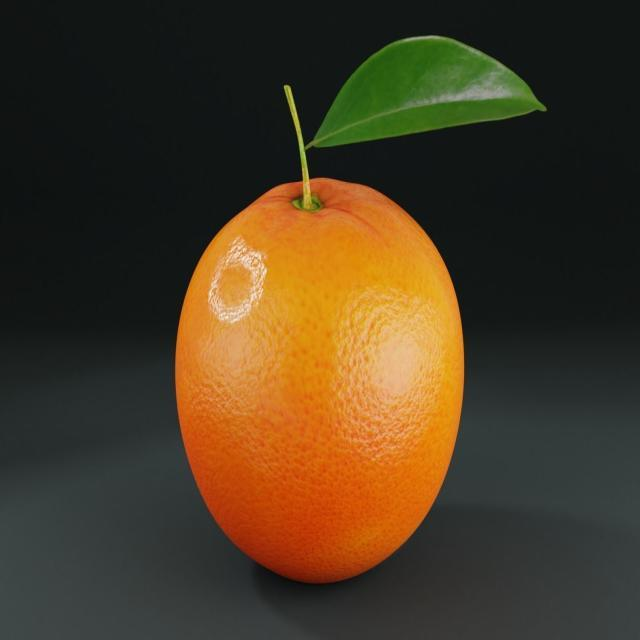Orange: (172, 174, 466, 585)
